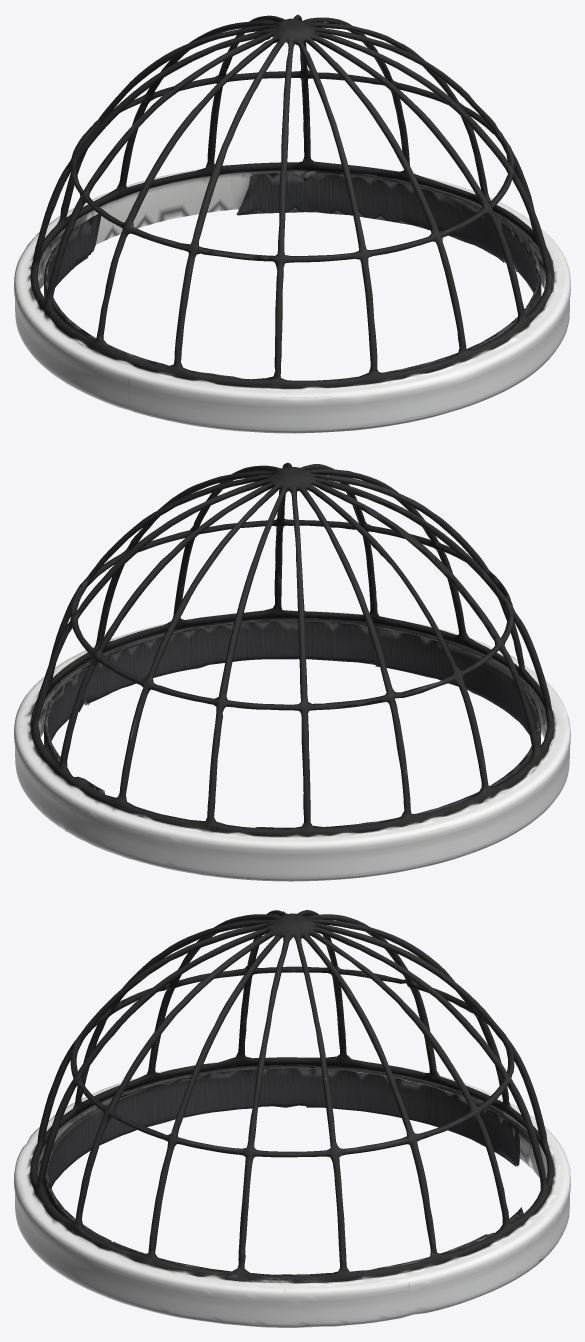
Rendered from Meshy_AI_Cage_Dome_0106141943_texture.fbx.
3 views of the same model, one above another, from view 1: azimuth 30°, elevation 25°; view 2: azimuth 150°, elevation 25°; view 3: azimuth 270°, elevation 25° (orthographic).
Visible parts, largest first — view 1: Mesh0; view 2: Mesh0; view 3: Mesh0.
Boxes of the visible parts, x1,y1,x2,y2 form: Mesh0: [14, 14, 570, 433]; Mesh0: [14, 462, 570, 881]; Mesh0: [14, 910, 570, 1327].
Size of the model in its own units: 191 by 111 by 191.
Materials: 1 (1 with a texture image).
